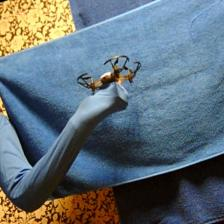drone: (77, 54, 141, 91)
